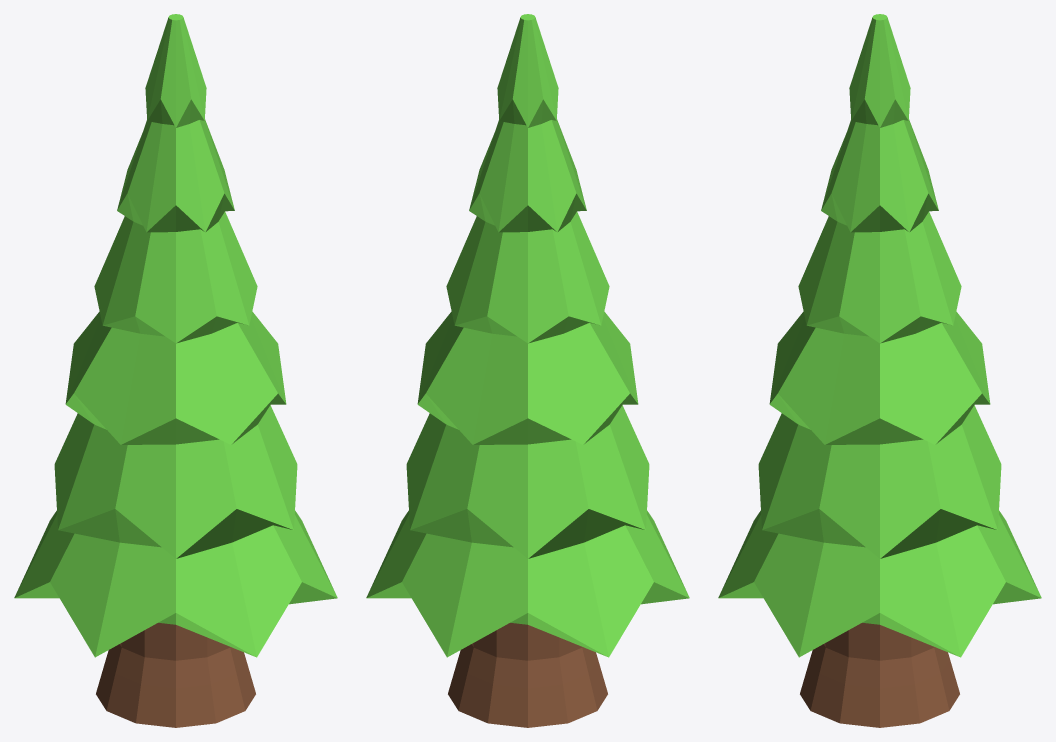
Rendered from agaac.fbx.
The picture shows the model from 3 angles, left to right: view 1: azimuth 30°, elevation 25°; view 2: azimuth 150°, elevation 25°; view 3: azimuth 270°, elevation 25°; orthographic projection.
Visible parts, largest first — view 1: Cube; view 2: Cube; view 3: Cube.
Part boxes in pixels (<box>): Cube: <box>14,14,337,727</box>; Cube: <box>366,14,689,727</box>; Cube: <box>718,14,1041,727</box>.
Size of the model in its own units: 226 by 580 by 251.
